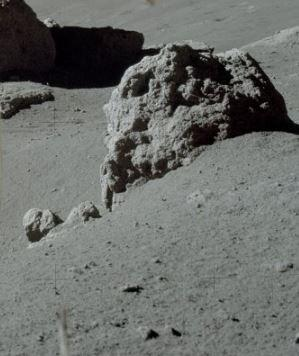rock: (101, 44, 298, 208), (0, 0, 56, 82), (24, 208, 63, 242), (64, 202, 101, 224)
